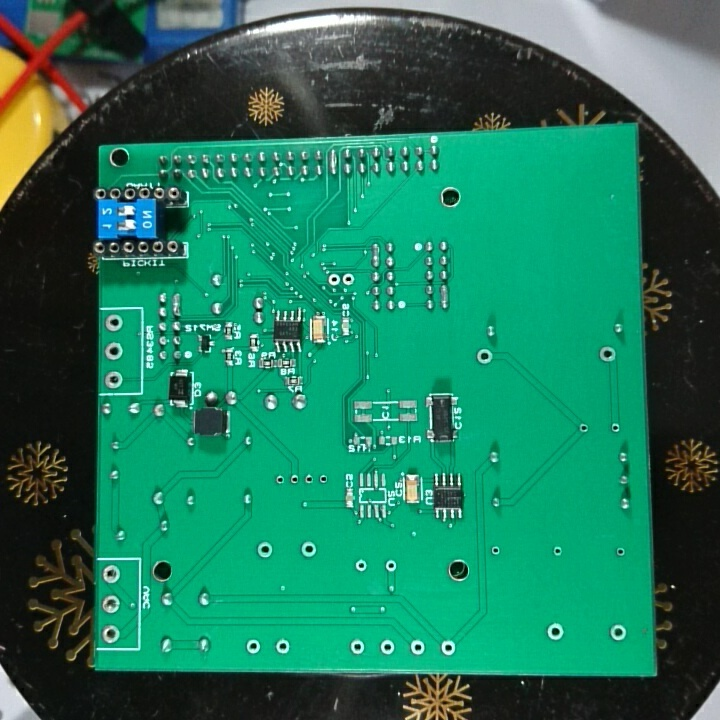F: (545, 618, 567, 646), (99, 623, 124, 647), (102, 312, 127, 335), (100, 594, 124, 617), (102, 340, 125, 364), (101, 561, 121, 588), (377, 636, 399, 660), (296, 538, 320, 560), (253, 539, 277, 560), (597, 343, 618, 366), (101, 370, 124, 391), (608, 621, 629, 643), (272, 637, 293, 658), (351, 556, 371, 578), (408, 638, 427, 658), (381, 558, 401, 577), (243, 638, 262, 658), (438, 637, 457, 656), (475, 346, 493, 366), (348, 637, 365, 658), (550, 541, 567, 560), (340, 271, 356, 291), (608, 418, 623, 437), (489, 540, 503, 560), (613, 545, 628, 563), (302, 470, 316, 489), (317, 469, 330, 489), (325, 271, 341, 287), (288, 471, 301, 490), (576, 420, 590, 436), (274, 472, 287, 489)
P: (436, 282, 453, 312), (170, 289, 185, 320), (369, 240, 383, 268), (328, 146, 341, 176)
